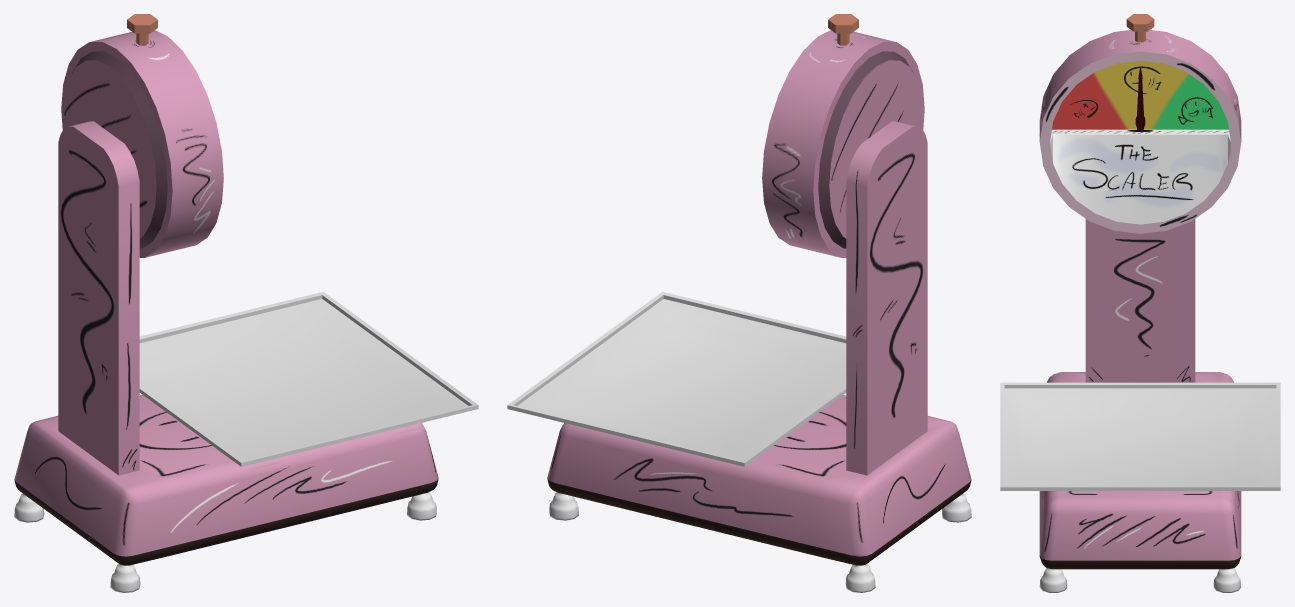
File: balança.fbx
3 renders of one model, left to right at view 1: azimuth 30°, elevation 25°; view 2: azimuth 150°, elevation 25°; view 3: azimuth 270°, elevation 25°, orthographic. The views are drawn at different scales.
Visible parts, largest first — view 1: Base, Prato, Medidor, Pés, Cylinder; view 2: Base, Prato, Medidor, Pés, Cylinder; view 3: Base, Medidor, Prato, Pés, Cylinder, Cube.
Boxes of the visible parts, x1,y1,x2,y2 form: Base: (14,121,438,565); Prato: (139,291,478,466); Medidor: (61,30,223,257); Pés: (14,492,436,592); Cylinder: (127,14,157,45); Base: (547,121,971,565); Prato: (507,291,846,466); Medidor: (762,30,924,257); Pés: (549,492,971,592); Cylinder: (828,14,858,45); Base: (1039,219,1241,569); Medidor: (1039,30,1241,233); Prato: (1000,382,1280,490); Pés: (1039,568,1240,592); Cylinder: (1126,14,1154,42); Cube: (1135,68,1145,131).
Size of the model in its own units: 349 by 511 by 278.
